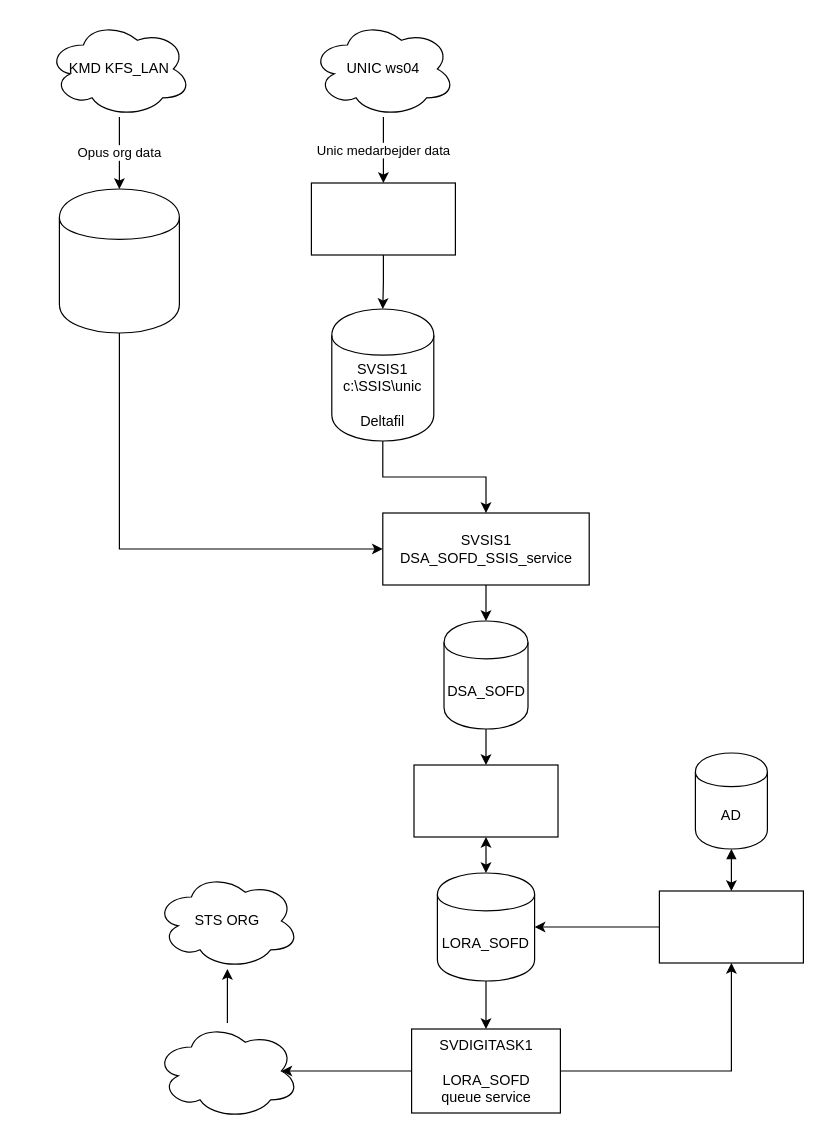
Some shapes in this 824 by 1140 pixel diagram are drawn without their labels. The centre of each missing label's shape, as x and y in pixels:
\\svkfs1\fra_KMD\Medarbejder\ Deltafil: the point at 118,260
AD scripts: the point at 730,926
SKB ws04 lokal Service: the point at 382,218
STS ORG SYNC: the point at 226,1070
SVDIGITASK1 LORA_SOFD service: the point at 485,800
